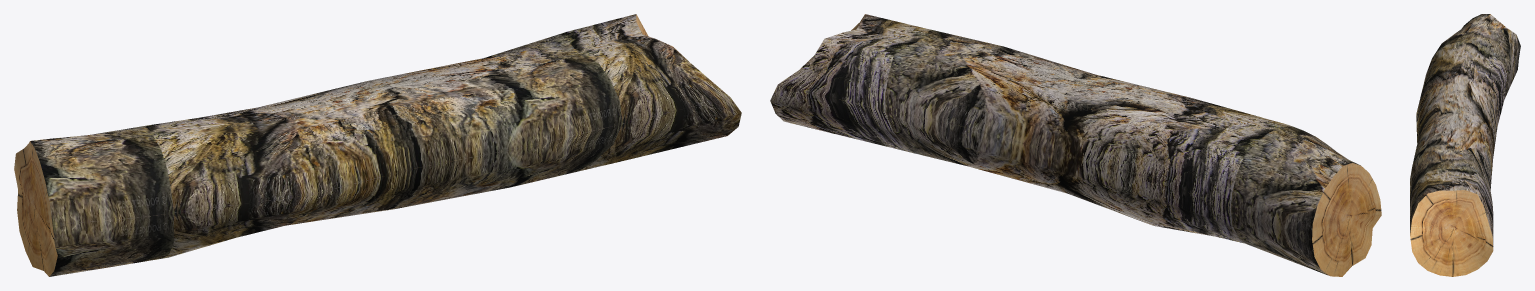
File: log5.fbx
3 renders of one model, left to right at view 1: azimuth 30°, elevation 25°; view 2: azimuth 150°, elevation 25°; view 3: azimuth 270°, elevation 25°, orthographic. The views are drawn at different scales.
Parts seen in each view (by area): view 1: pCylinder14; view 2: pCylinder14; view 3: pCylinder14.
Boxes of the visible parts, x1=… form: pCylinder14: x1=14, y1=14, x2=741, y2=276; pCylinder14: x1=770, y1=14, x2=1381, y2=276; pCylinder14: x1=1410, y1=14, x2=1520, y2=276.
Bounding box in the file's own units: 6.91 × 1.28 × 1.68.
2 materials, 2 textured.
